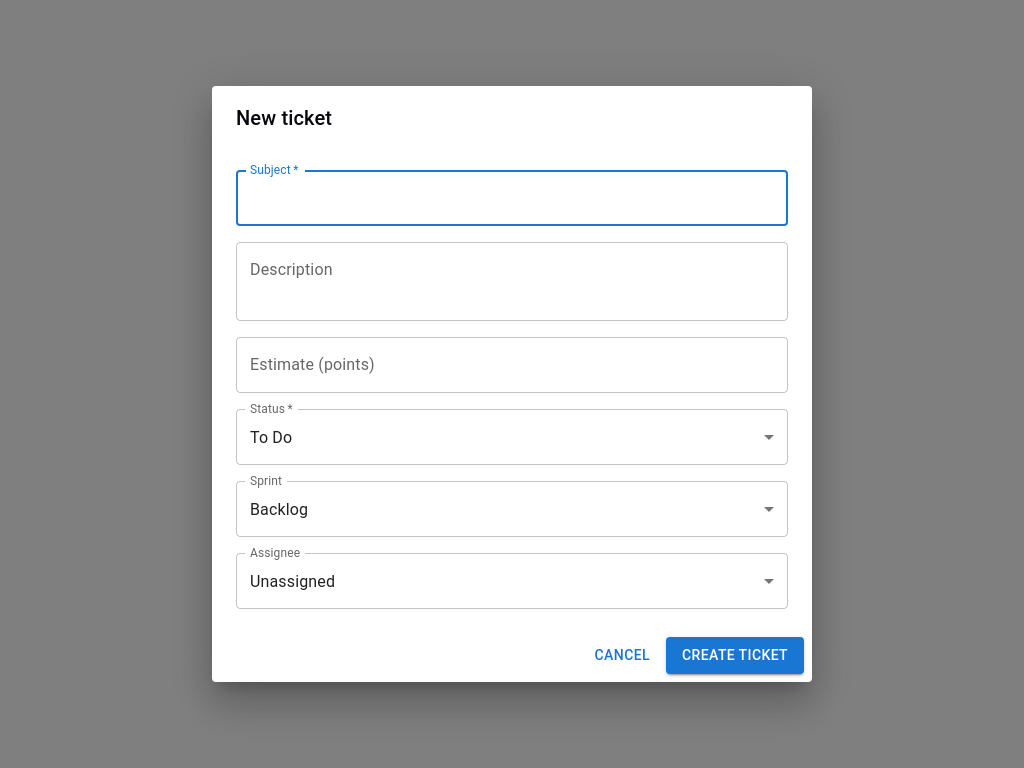
Test case: TicketForm › shows validation error when estimate is negative
Type "-1" into the number field labelled "Estimate (points)" at (512, 365), box 236,337 -> 788,393
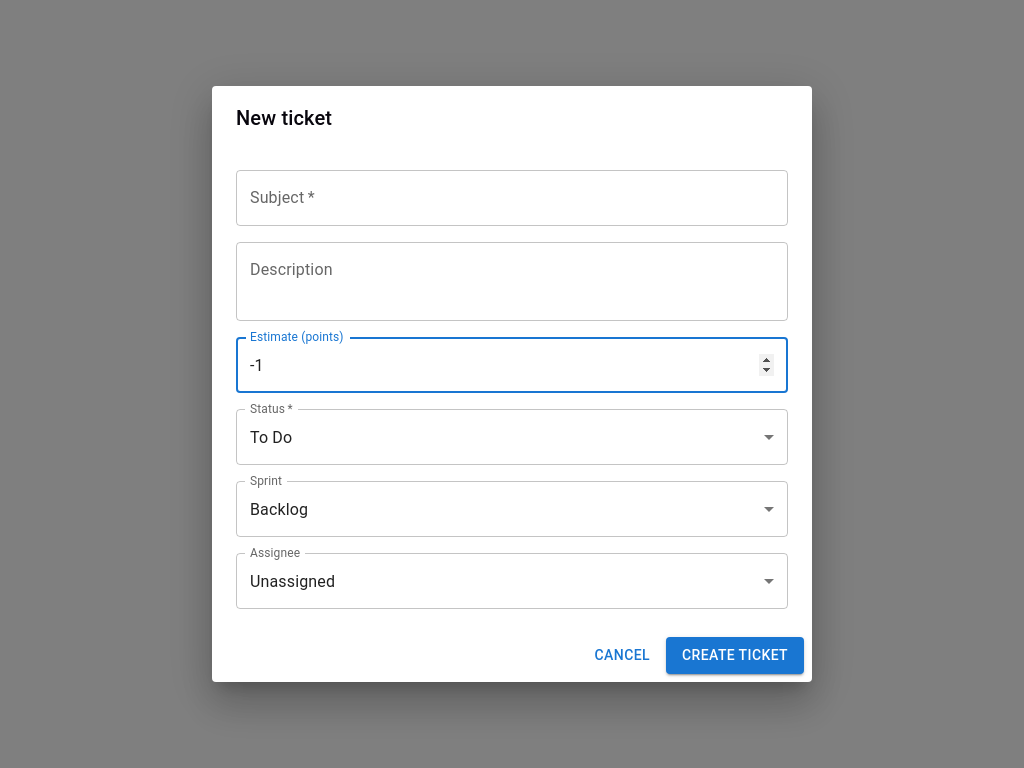
Click the button "Create ticket" at (735, 656), box 666,637 -> 804,674
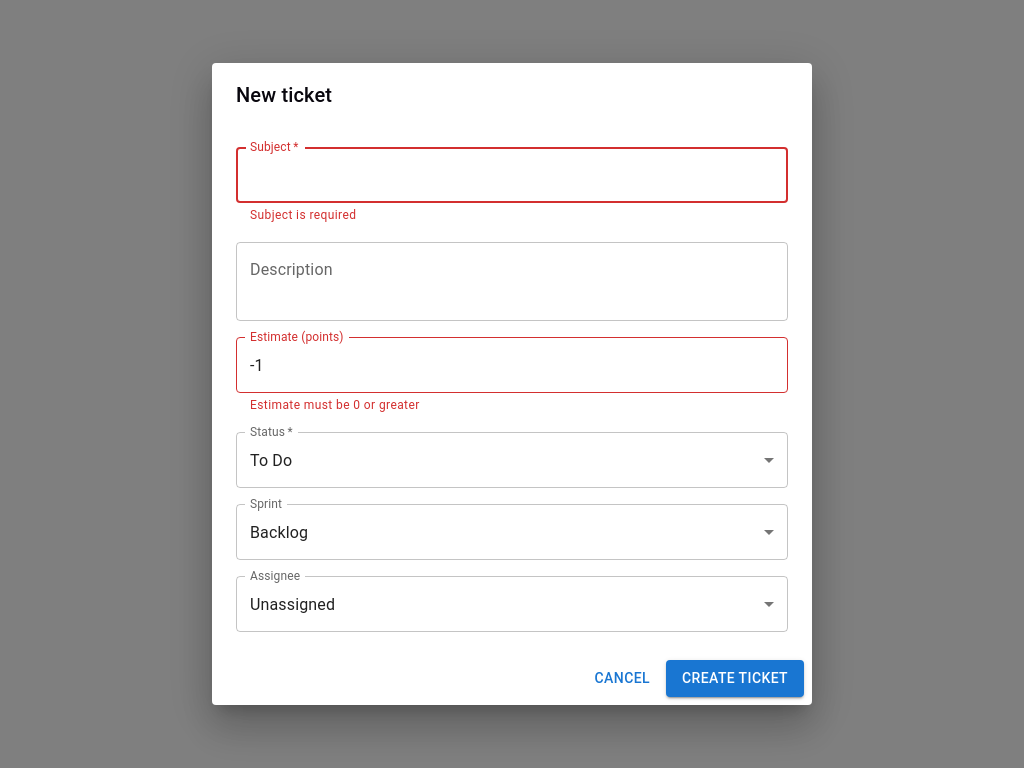
Expected: the text "Estimate must be 0 or greater" is shown, 250,398 -> 420,412
